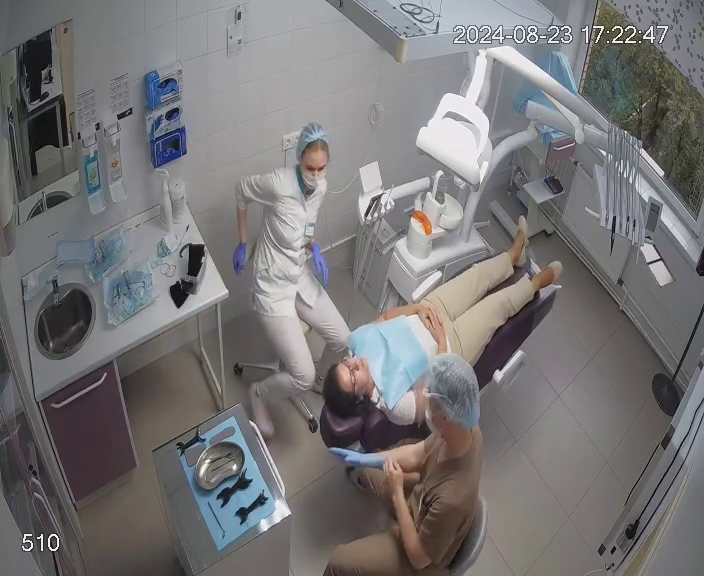Patient: (317, 213, 563, 453)
